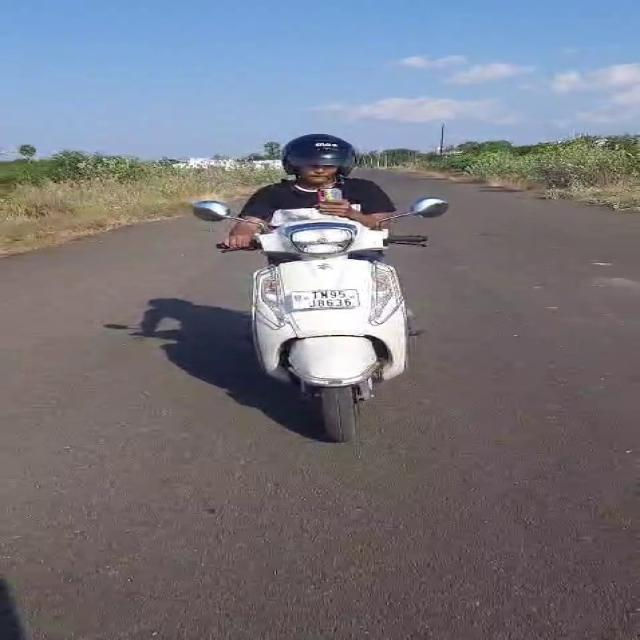USING_MOBILE: (282, 136, 378, 218)
